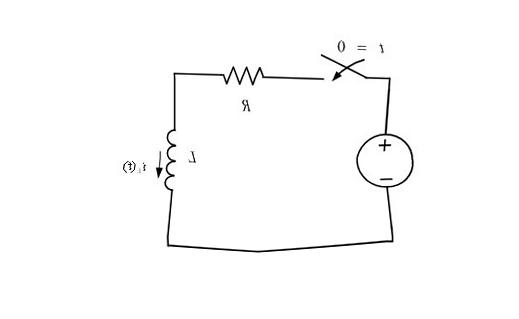Battery: (340, 118, 424, 195)
